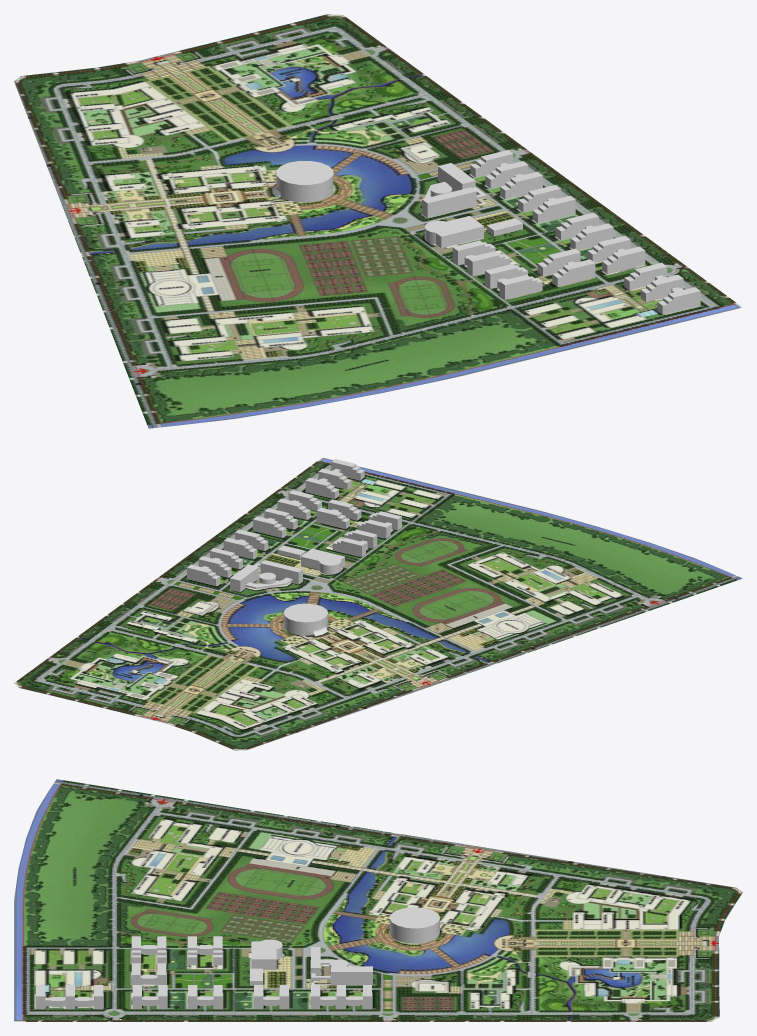
File: school.gltf
3 renders of one model, top to bottom at view 1: azimuth 30°, elevation 25°; view 2: azimuth 150°, elevation 25°; view 3: azimuth 270°, elevation 25°, orthographic. The views are drawn at different scales.
Parts seen in each view (by area): view 1: 平面, 立方体.008, 柱体, 立方体.007, 柱体.002, 立方体.004, 立方体.003, 立方体.001, 立方体.002, 立方体.005, 柱体.001, 立方体.006; view 2: 平面, 柱体.002, 立方体.008, 柱体, 立方体.007, 立方体.004, 立方体.002, 立方体.001, 立方体.003, 立方体.006, 柱体.001, 立方体.005; view 3: 平面, 柱体, 柱体.002, 立方体.008, 立方体.007, 柱体.001, 立方体.006, 立方体.005, 立方体.003, 立方体.002, 立方体.001, 立方体.004.
Part boxes in pixels (left/top/right/bottom): 平面: left=14, top=14, right=742, bottom=428; 立方体.008: left=624, top=262, right=700, bottom=314; 柱体: left=272, top=161, right=333, bottom=202; 立方体.007: left=470, top=150, right=542, bottom=199; 柱体.002: left=422, top=163, right=486, bottom=218; 立方体.004: left=537, top=248, right=595, bottom=286; 立方体.003: left=587, top=236, right=645, bottom=273; 立方体.001: left=518, top=185, right=575, bottom=223; 立方体.002: left=555, top=212, right=613, bottom=250; 立方体.005: left=485, top=264, right=542, bottom=299; 柱体.001: left=424, top=216, right=483, bottom=248; 立方体.006: left=452, top=240, right=510, bottom=276; 平面: left=14, top=457, right=742, bottom=750; 柱体.002: left=230, top=560, right=302, bottom=591; 立方体.008: left=305, top=459, right=364, bottom=498; 柱体: left=283, top=603, right=328, bottom=636; 立方体.007: left=187, top=548, right=242, bottom=585; 立方体.004: left=316, top=499, right=361, bottom=528; 立方体.002: left=253, top=508, right=297, bottom=537; 立方体.001: left=223, top=529, right=268, bottom=558; 立方体.003: left=277, top=490, right=321, bottom=519; 立方体.006: left=332, top=529, right=377, bottom=556; 柱体.001: left=301, top=548, right=344, bottom=574; 立方体.005: left=357, top=511, right=401, bottom=538; 平面: left=14, top=779, right=742, bottom=1021; 柱体: left=389, top=907, right=439, bottom=943; 柱体.002: left=311, top=947, right=372, bottom=985; 立方体.008: left=36, top=985, right=103, bottom=1009; 立方体.007: left=311, top=985, right=371, bottom=1009; 柱体.001: left=251, top=939, right=282, bottom=969; 立方体.006: left=187, top=936, right=222, bottom=965; 立方体.005: left=131, top=936, right=166, bottom=964; 立方体.003: left=132, top=985, right=167, bottom=1009; 立方体.002: left=188, top=985, right=222, bottom=1009; 立方体.001: left=254, top=985, right=288, bottom=1009; 立方体.004: left=131, top=963, right=166, bottom=987.
Size of the model in its own units: 2.26 by 0.0727 by 2.87.
Materials: 1 (1 with a texture image).
